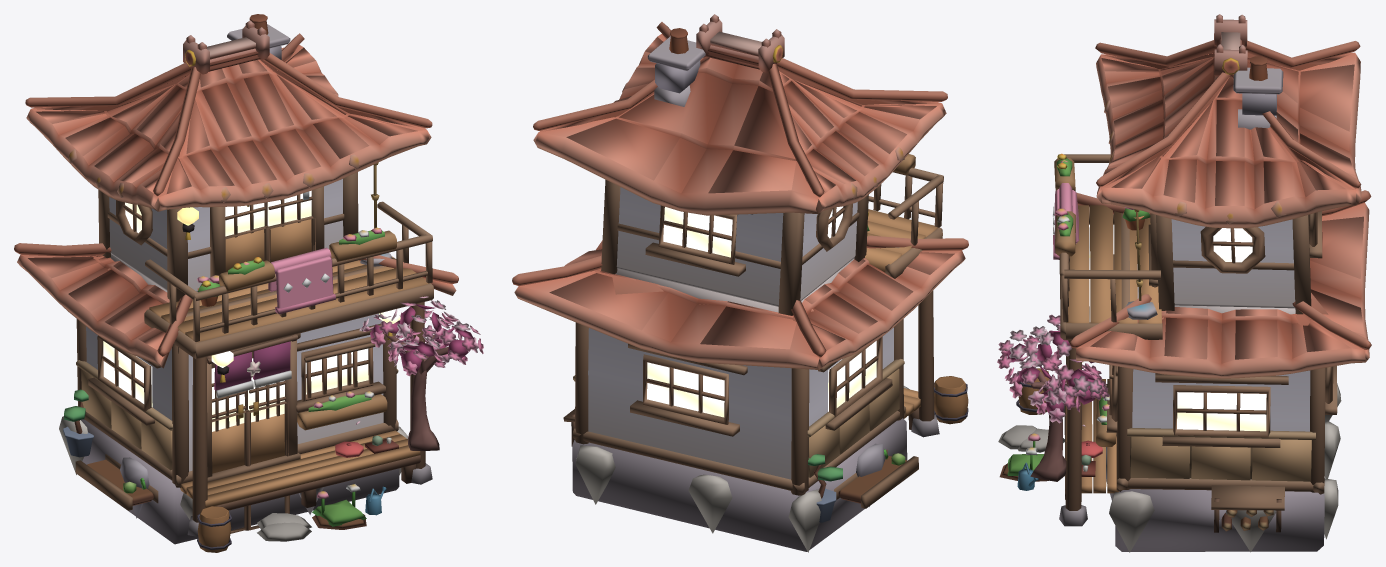
File: home-3-v0.glb
3 renders of one model, left to right at view 1: azimuth 30°, elevation 25°; view 2: azimuth 150°, elevation 25°; view 3: azimuth 270°, elevation 25°, orthographic. The views are drawn at different scales.
Parts seen in each view (by area): view 1: home-3-v0, window_glow; view 2: home-3-v0, window_glow; view 3: home-3-v0, window_glow.
Boxes of the visible parts, <box> form: home-3-v0: <box>14,14,483,552</box>; window_glow: <box>103,190,400,431</box>; home-3-v0: <box>512,14,968,552</box>; window_glow: <box>647,206,876,417</box>; home-3-v0: <box>997,14,1371,552</box>; window_glow: <box>1089,228,1266,431</box>.
Bounding box in the file's own units: 3.27 × 4.61 × 3.38.
